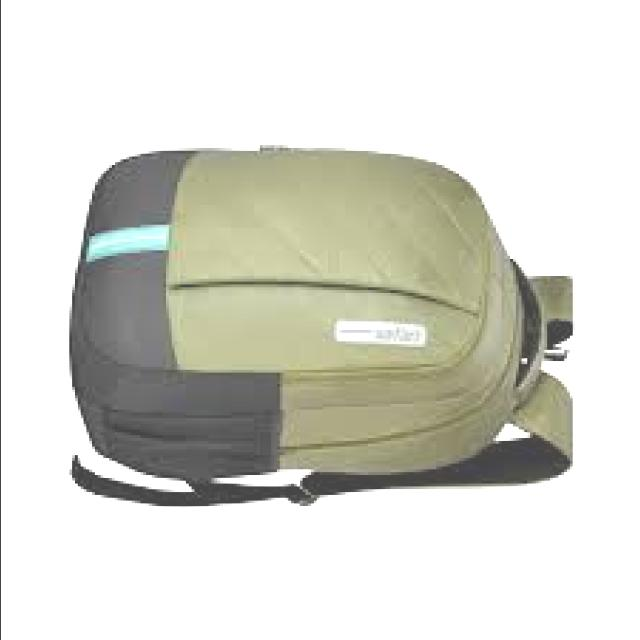backpack: (70, 143, 579, 510)
